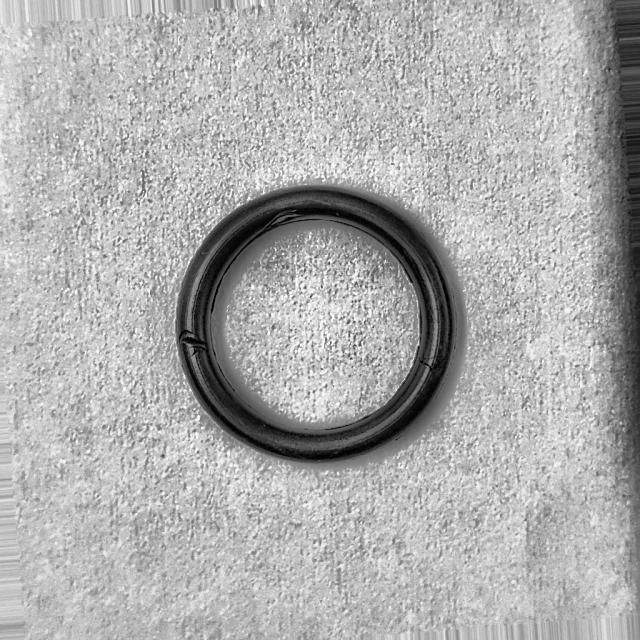切割缺陷: (176, 326, 210, 352), (262, 206, 305, 226), (416, 356, 442, 374)
裂纹: (211, 219, 413, 313), (388, 346, 420, 402), (324, 414, 372, 429), (419, 302, 422, 345), (302, 428, 309, 430)
